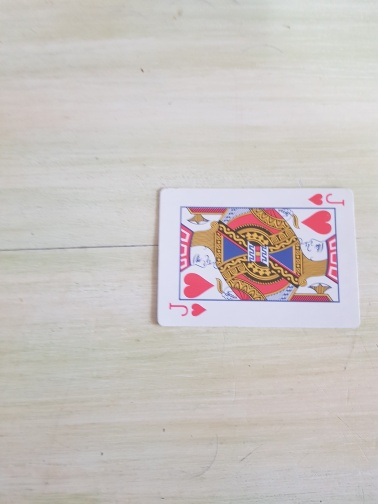jack: (155, 187, 362, 329)
